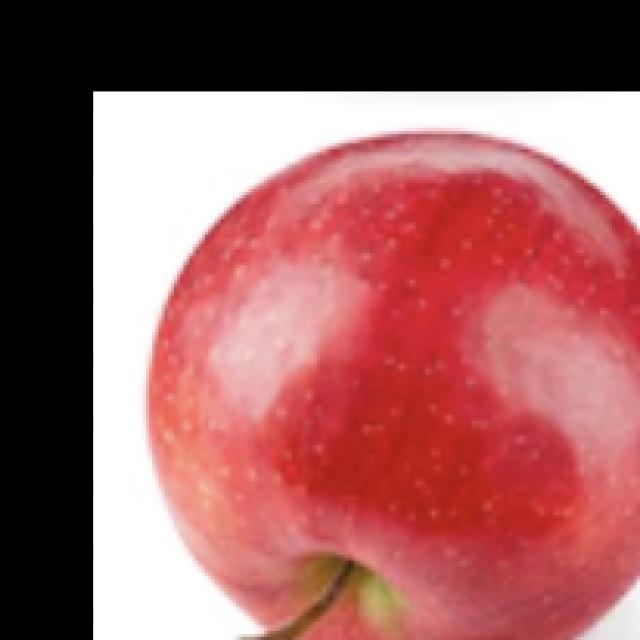Fresh Apple: (161, 135, 640, 640)
